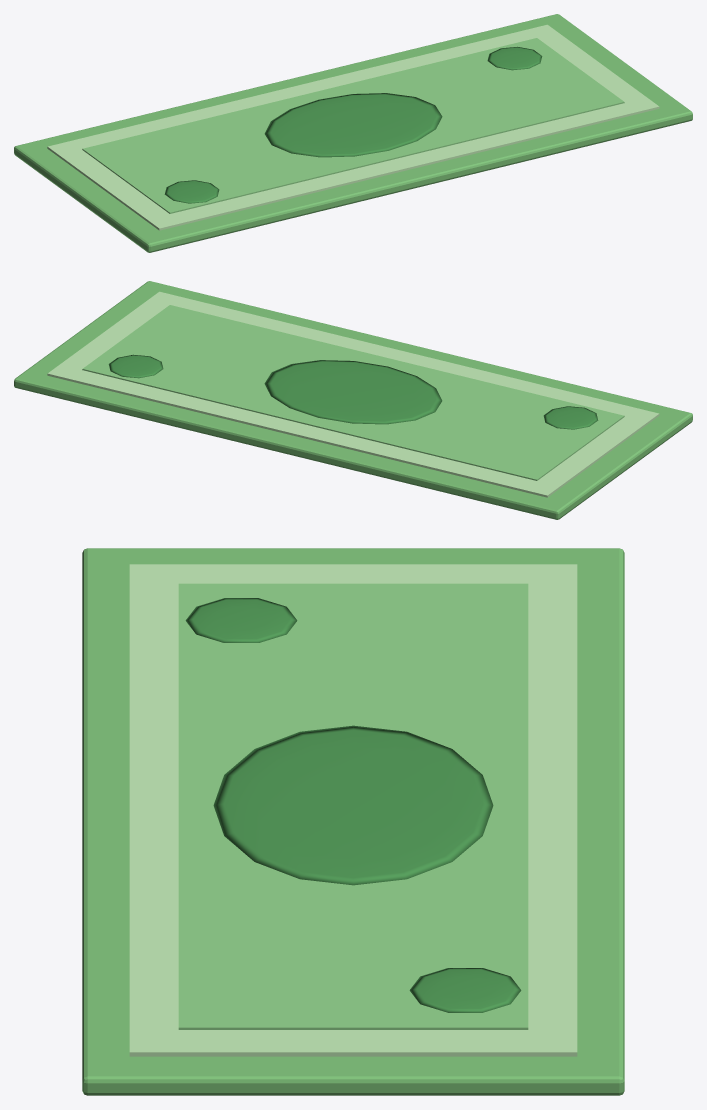
File: cash_bill.glb
3 renders of one model, top to bottom at view 1: azimuth 30°, elevation 25°; view 2: azimuth 150°, elevation 25°; view 3: azimuth 270°, elevation 25°, orthographic. The views are drawn at different scales.
Visible parts, largest first — view 1: inner, paper, frame, oval, corner-1, corner1; view 2: inner, paper, frame, oval, corner-1, corner1; view 3: inner, paper, frame, oval, corner-1, corner1.
Boxes of the visible parts, box(x1,y1,x2,y2) form: inner: box(82, 38, 624, 213); paper: box(14, 14, 692, 252); frame: box(47, 24, 659, 230); oval: box(264, 93, 442, 157); corner-1: box(164, 180, 219, 203); corner1: box(487, 46, 542, 70); inner: box(82, 305, 624, 480); paper: box(14, 281, 692, 519); frame: box(47, 291, 659, 497); oval: box(264, 360, 442, 424); corner-1: box(543, 406, 598, 429); corner1: box(108, 354, 163, 378); inner: box(178, 583, 528, 1029); paper: box(82, 548, 624, 1095); frame: box(129, 564, 577, 1056); oval: box(213, 725, 493, 885); corner-1: box(185, 598, 297, 642); corner1: box(409, 968, 521, 1012).
Bounding box in the file's own units: 0.36 × 0.0094 × 0.155.
